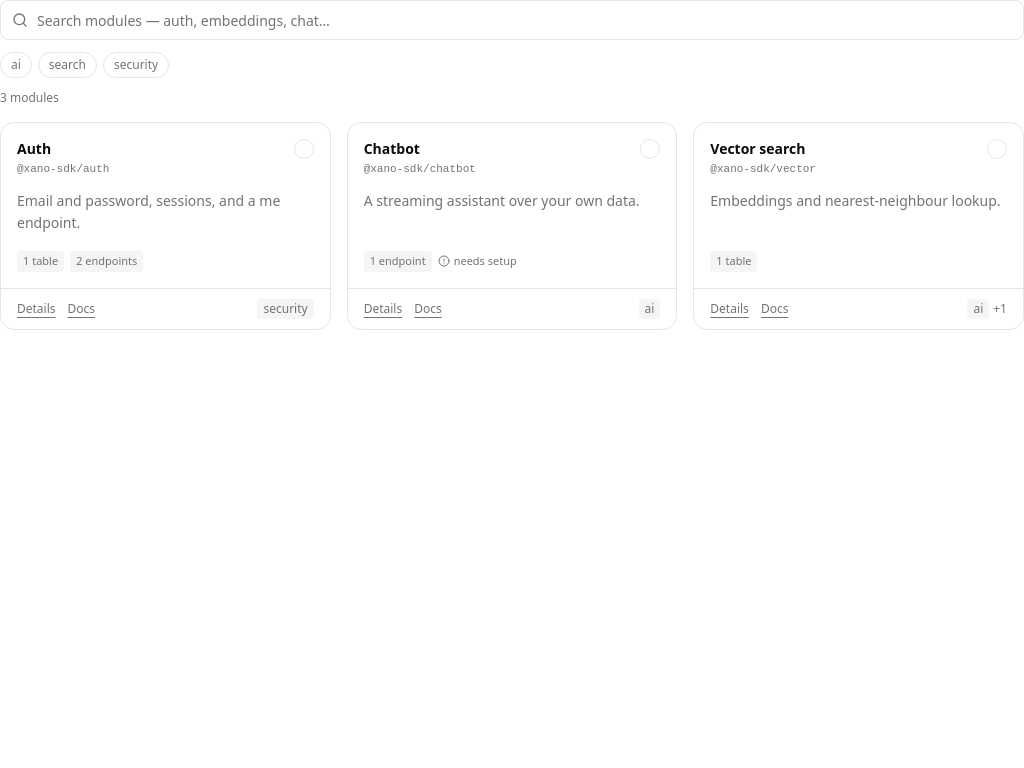
Test: module detail › lists what a module needs before you take it
The width and height of the screenshot is (1024, 768).
What coordinates should you click on to do the following:
click the 2nd button "Details"
I would click on:
 (383, 308)
Its box is [364,300,402,316].
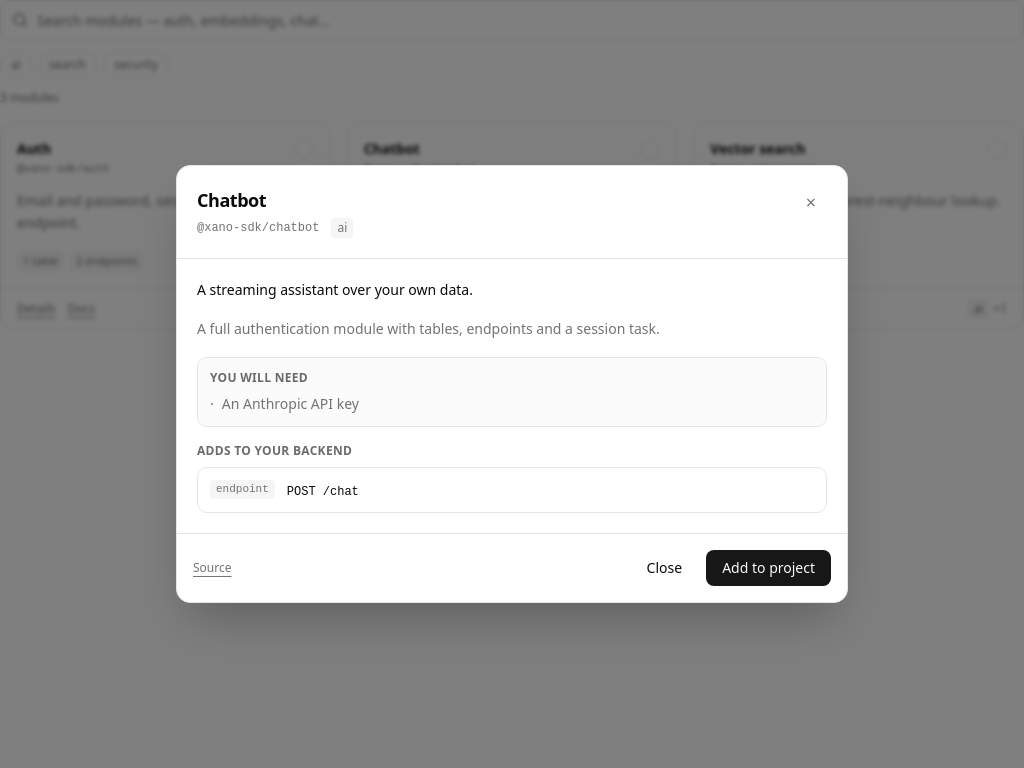
Result: the text "An Anthropic API key" is shown at [222,394,359,414]
